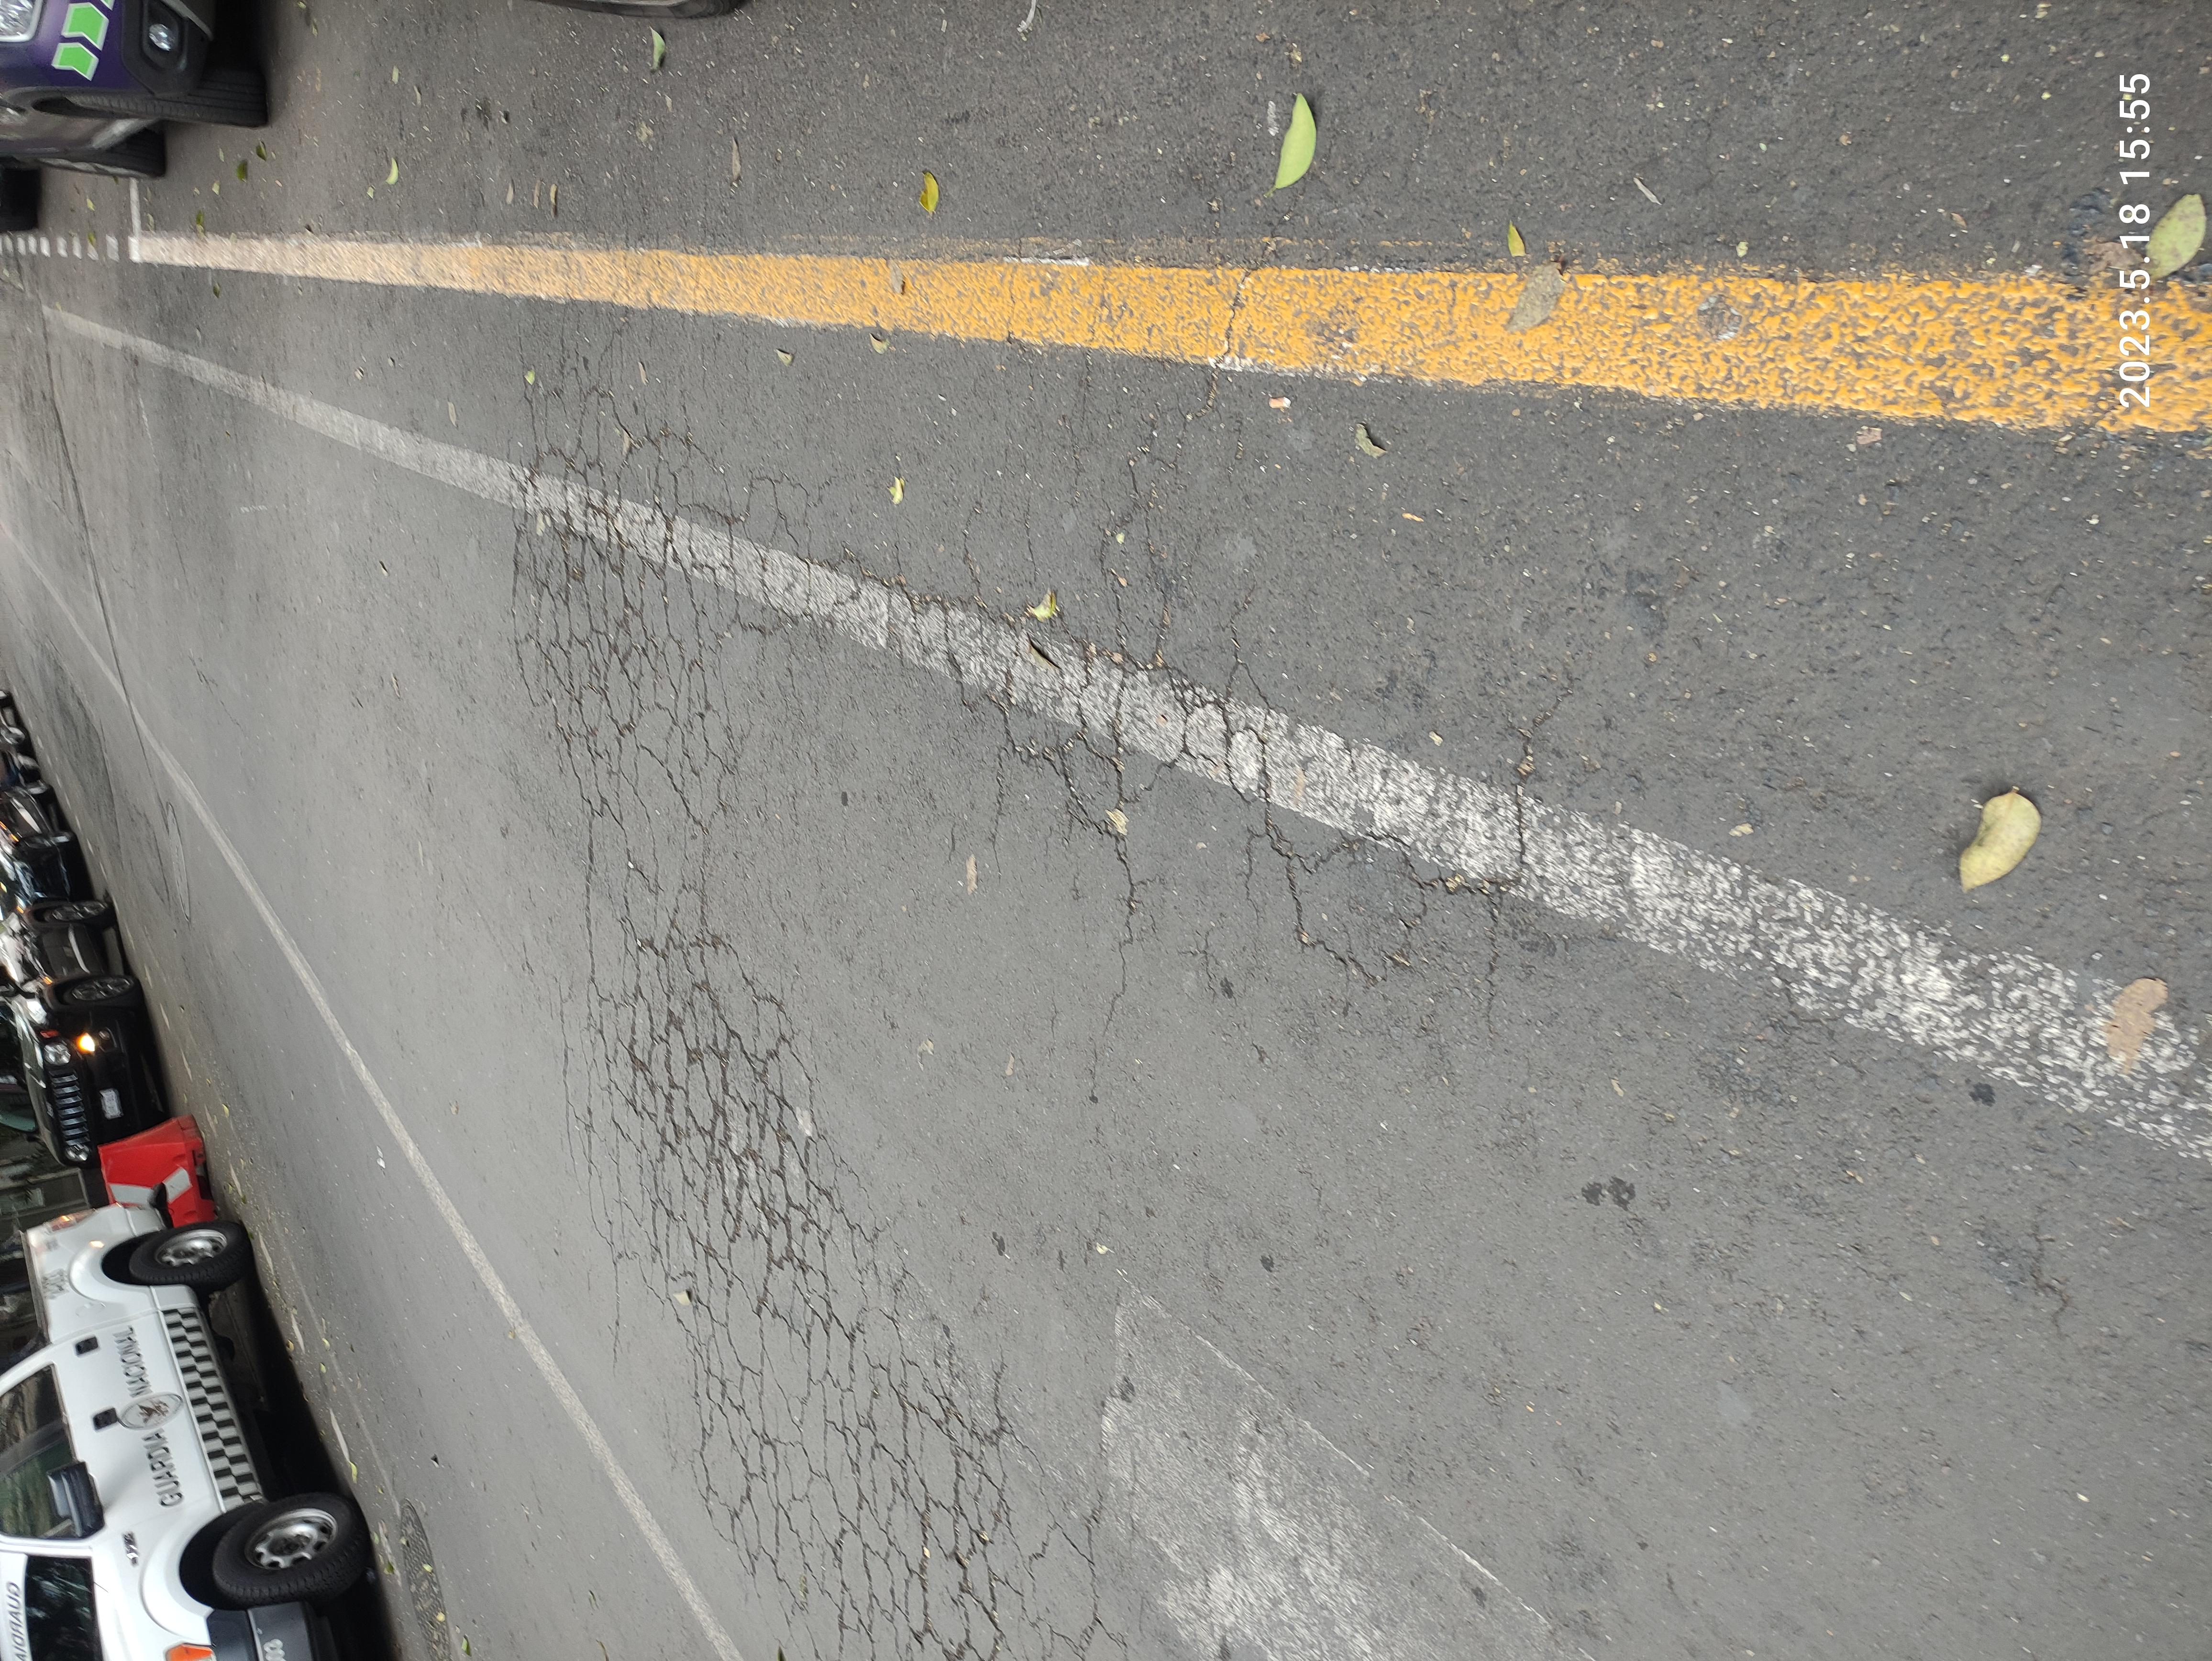alligator-crack: (918, 546, 1650, 1153), (0, 440, 1029, 755), (1140, 365, 1761, 523)
